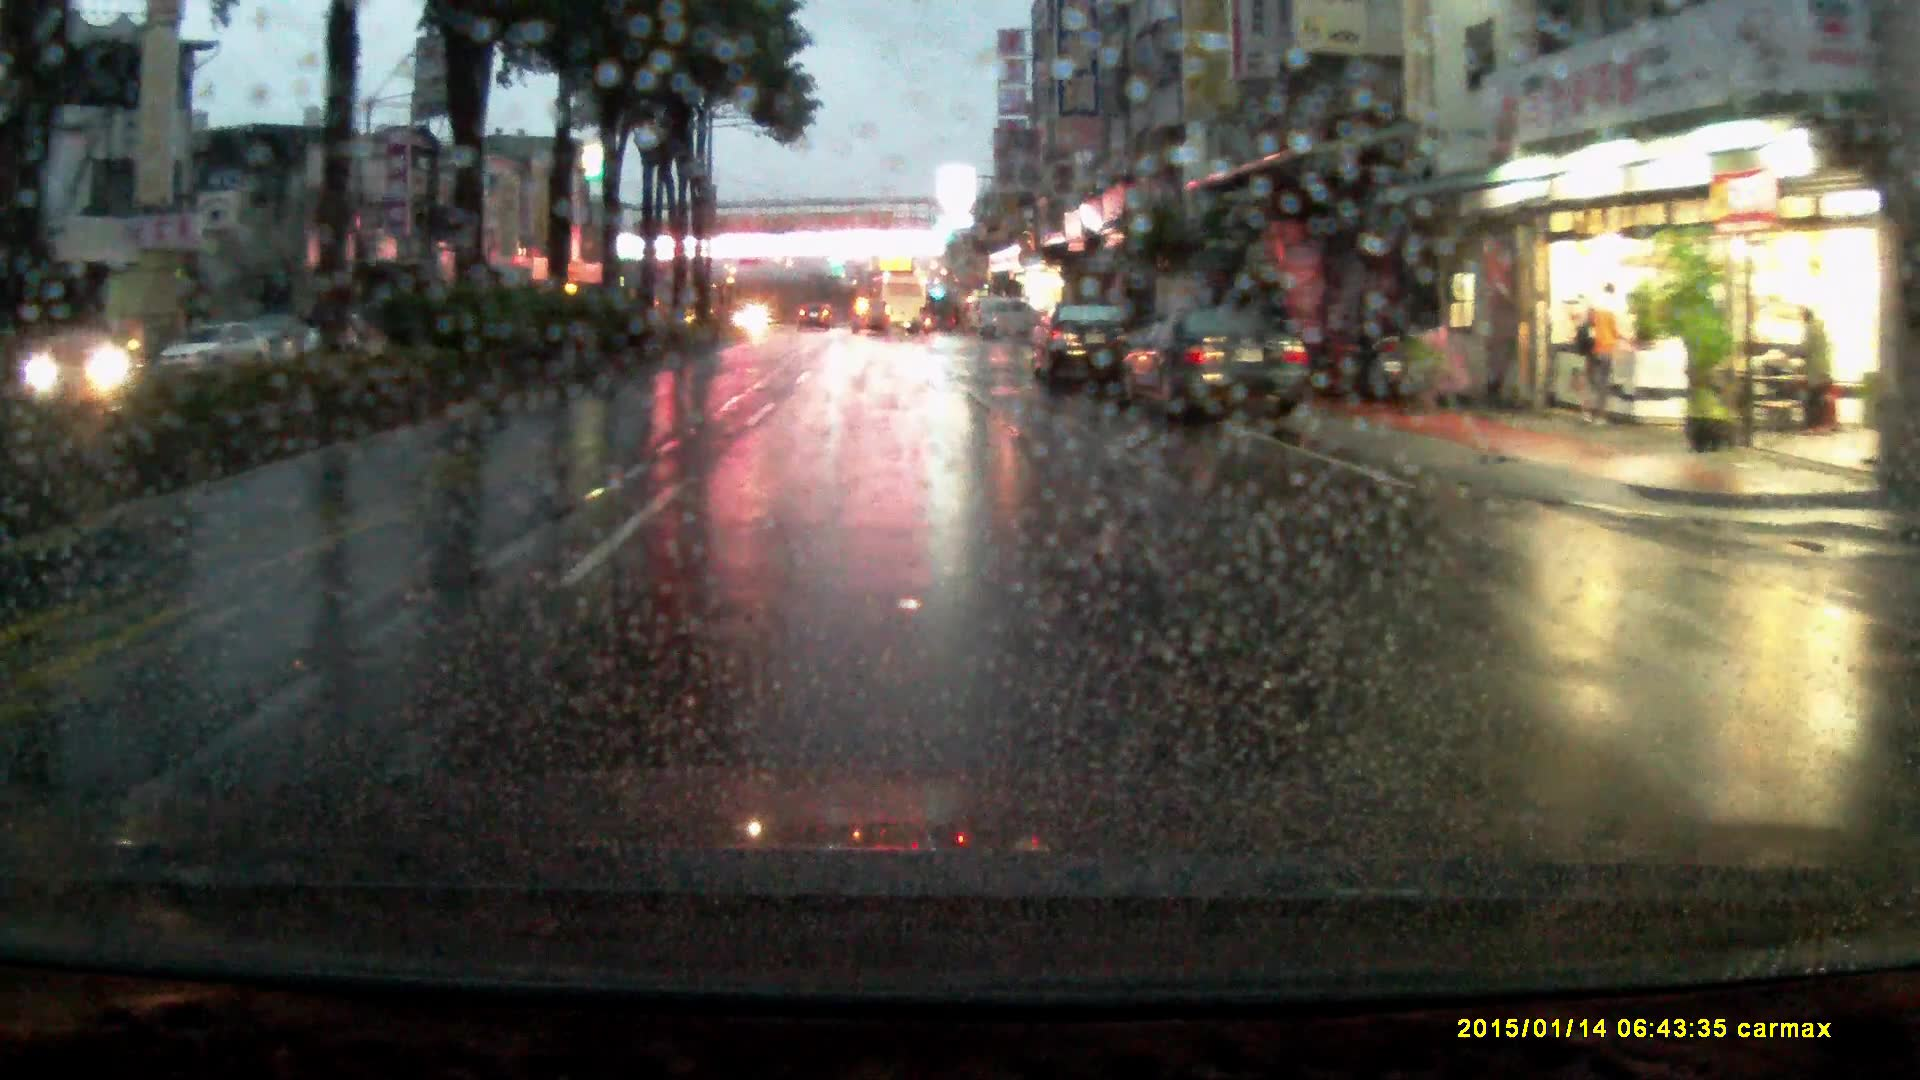vehicle: (1112, 305, 1317, 425), (1036, 301, 1145, 400), (158, 320, 277, 384), (968, 301, 1047, 345), (870, 278, 927, 336), (852, 297, 891, 334), (799, 301, 833, 330)
